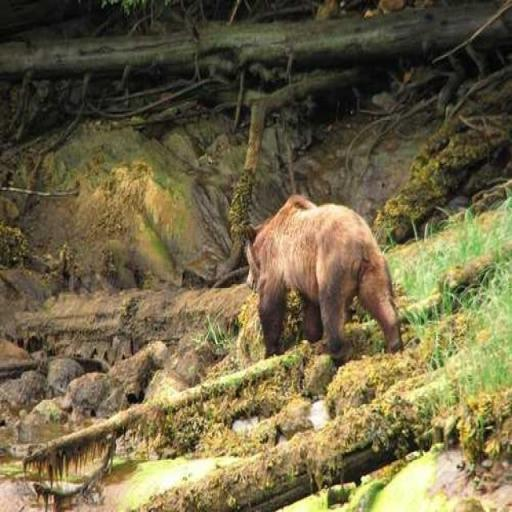Bear: (242, 192, 404, 362)
